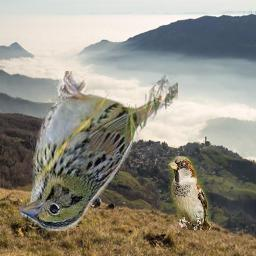Sparrow: (20, 72, 179, 233), (169, 156, 212, 230)
